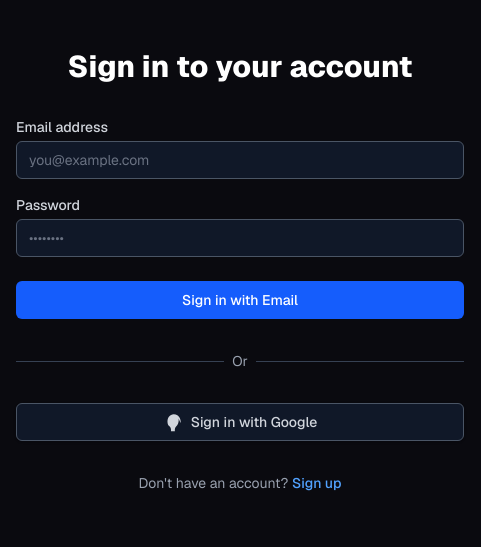
Scenario: Login Page › Credentials Login › should display error message on failed login
Step 1. Type "test@example.com" into the field with placeholder "you@example.com" → (240, 160), box left=16, top=141, right=464, bottom=179
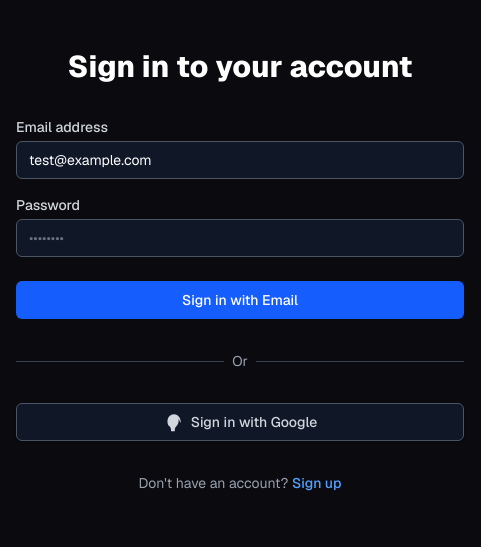
Step 2. Type "wrong" into the password field with placeholder "••••••••" → (240, 238), box left=16, top=219, right=464, bottom=257
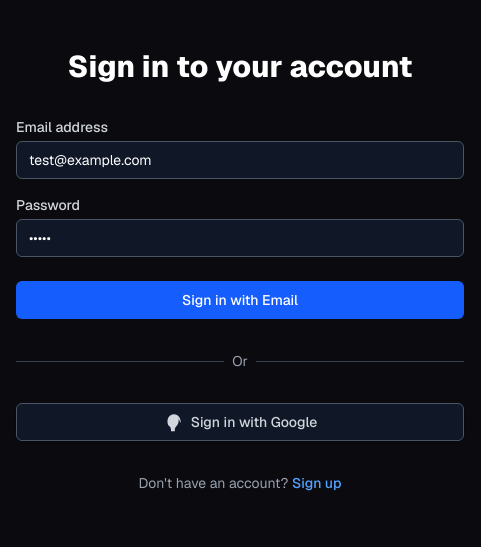
Step 3. Click the button "Sign in with Email" → (240, 300), box left=16, top=281, right=464, bottom=319
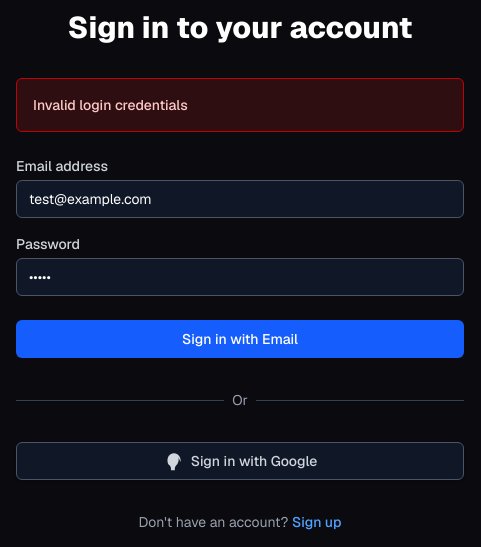
Check: the text "Invalid login credentials" is shown, box left=33, top=96, right=188, bottom=114
